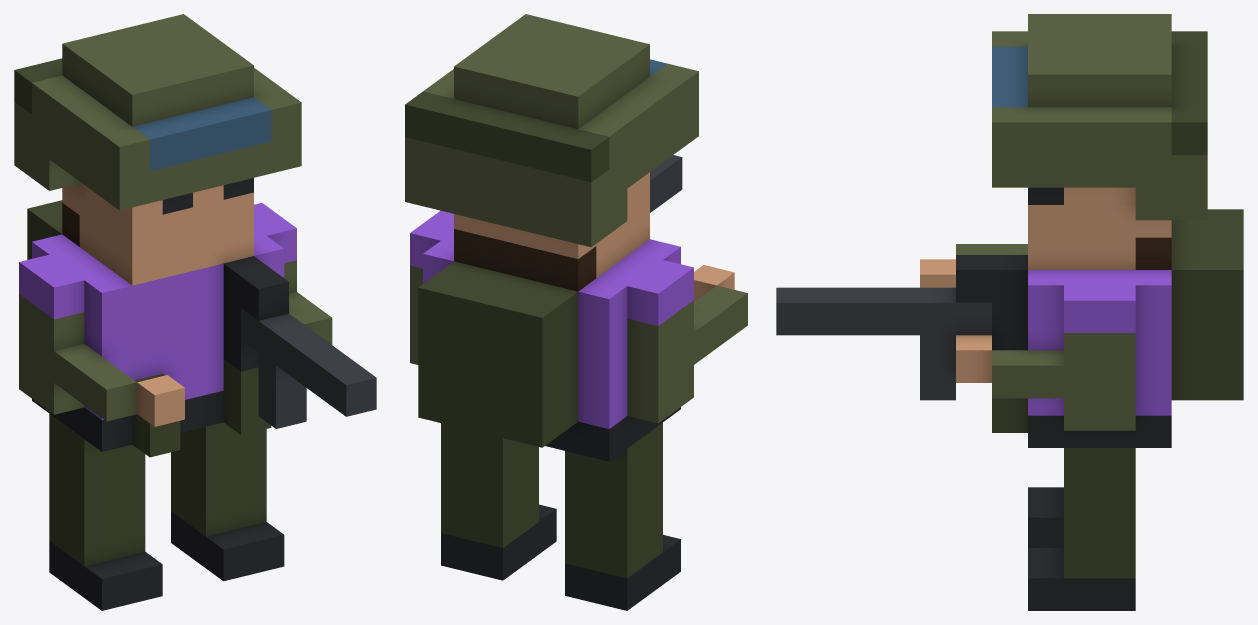
The model's file is cm_rifle_4.glb.
The picture shows the model from 3 angles, left to right: view 1: azimuth 30°, elevation 25°; view 2: azimuth 150°, elevation 25°; view 3: azimuth 270°, elevation 25°; orthographic projection. The views are drawn at different scales.
Parts seen in each view (by area): view 1: cm_rifle_4_body; view 2: cm_rifle_4_body; view 3: cm_rifle_4_body.
Part boxes in pixels (x1,y1,x2,y2): cm_rifle_4_body: (14, 14, 376, 610); cm_rifle_4_body: (405, 14, 747, 610); cm_rifle_4_body: (776, 14, 1243, 610).
Bounding box in the file's own units: 0.5 × 1 × 0.8125.
Materials: 1 (1 with a texture image).
